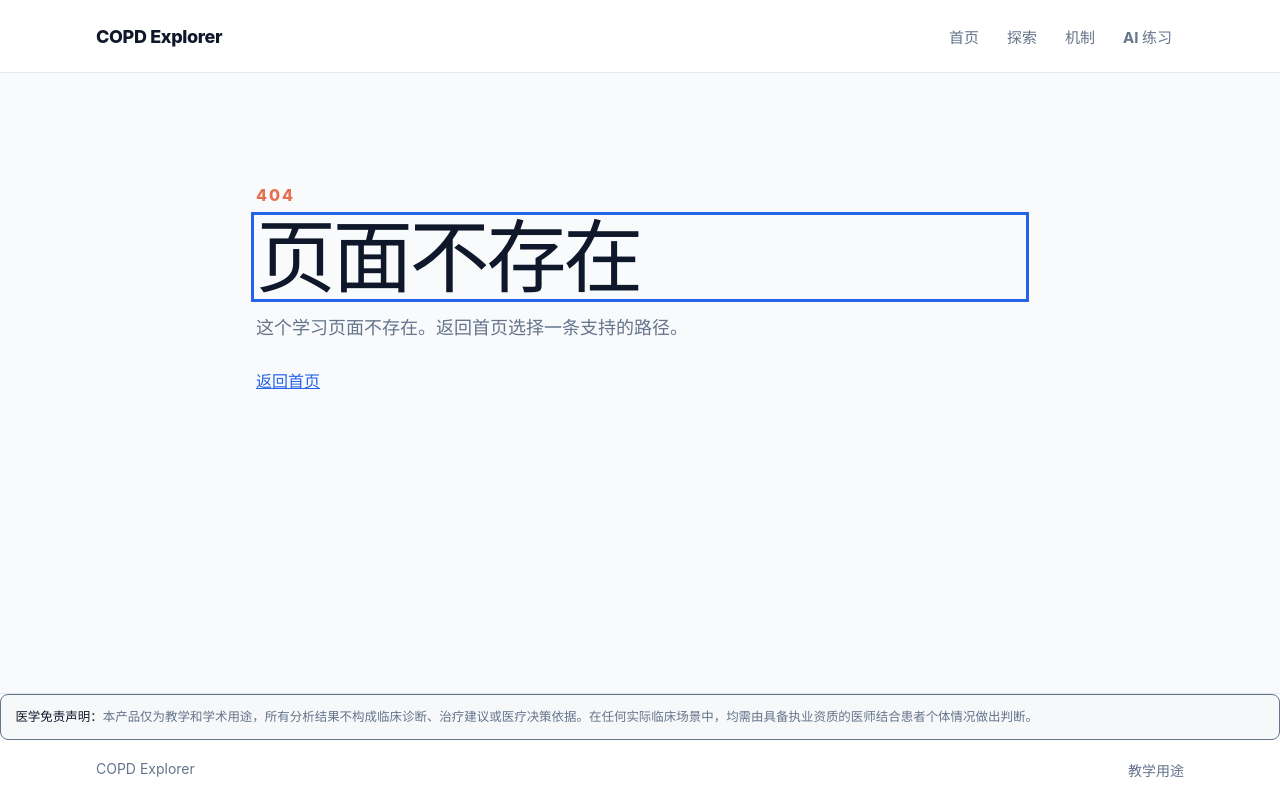
Test: application routes › renders a friendly not found page and can return home
Expected: the element showing "404 页面不存在 这个学习页面不存在。返回首页选择一条支持的路径。 返回首页" is shown, top-left (256, 185), bottom-right (688, 391)
Expected: the heading "页面不存在" is shown, top-left (256, 208), bottom-right (640, 305)
Click the link "返回首页": click(288, 380) top-left (256, 368), bottom-right (320, 392)
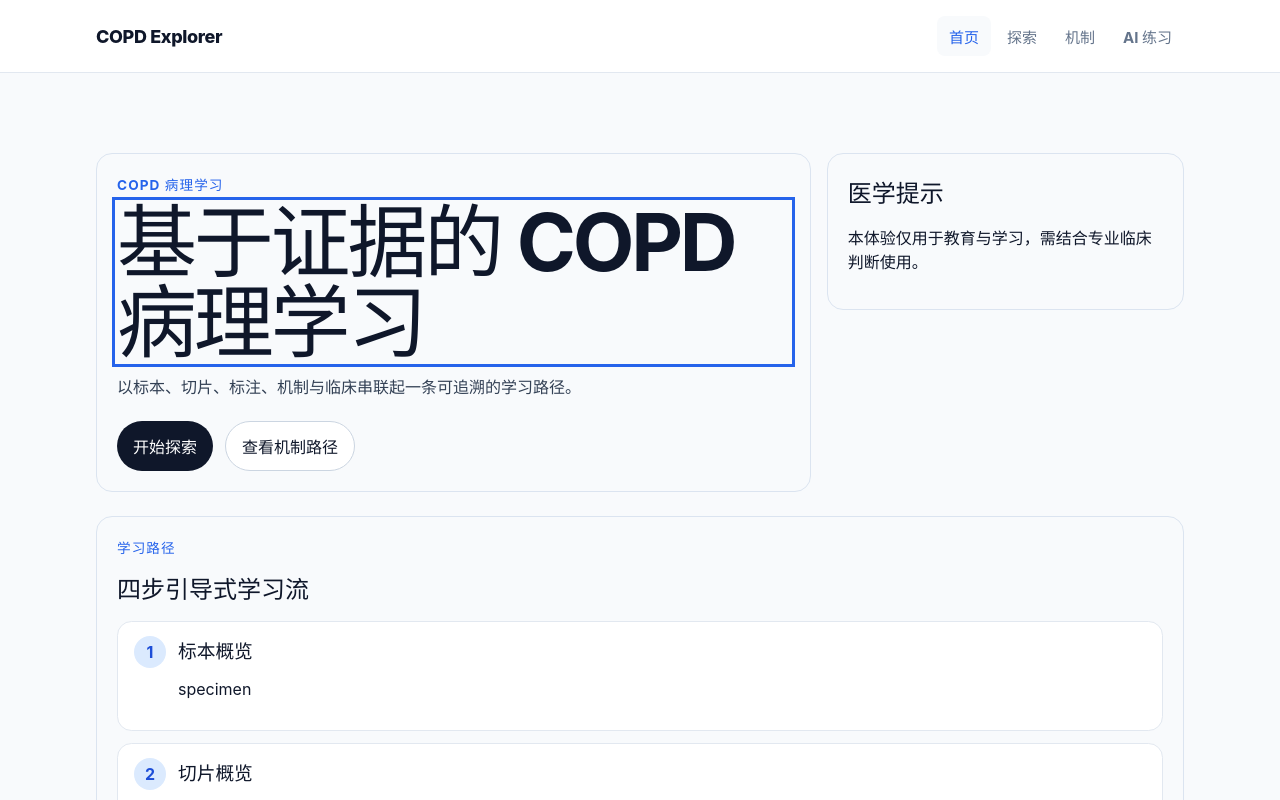
Expected: the heading "基于证据的 COPD 病理学习" is shown, top-left (117, 202), bottom-right (790, 362)
